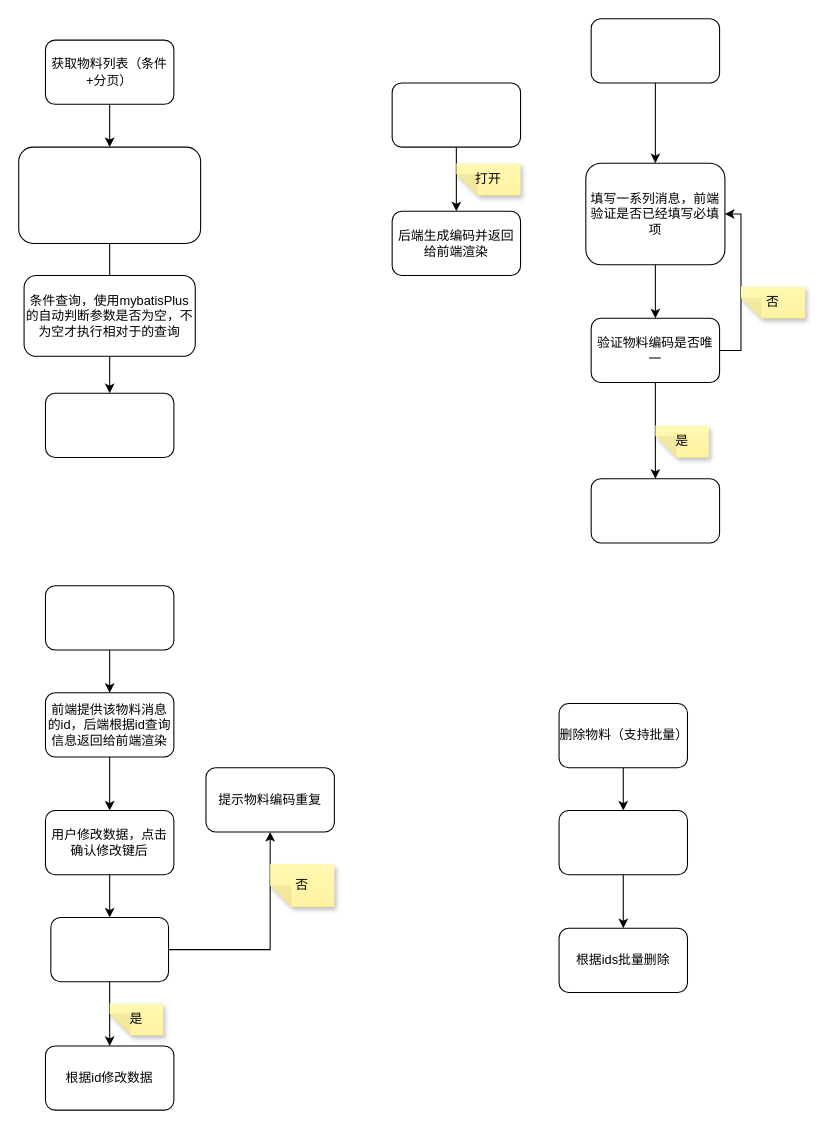
The diagram is 830 pixels wide and 1129 high, and some of its shapes have lost their labels. The centre of each missing label's shape, as x and y in pixels:
"两个实体类接受前端参数。实体参数一：当前页码，每页的展示条数。实体参数二（查询条件）：物料编码，物料名称" goes at point 109,194.
"修改物料" goes at point 109,617.
"后端验证物料编码是否唯一" goes at point 109,949.
"插入到数据库中" goes at point 655,510.
"新增物料" goes at point 655,50.
"构造返回参数" goes at point 109,424.
"用户确认删除后，前端发送批量id给后端" goes at point 622,842.
"自动生成物料编码" goes at point 456,114.
